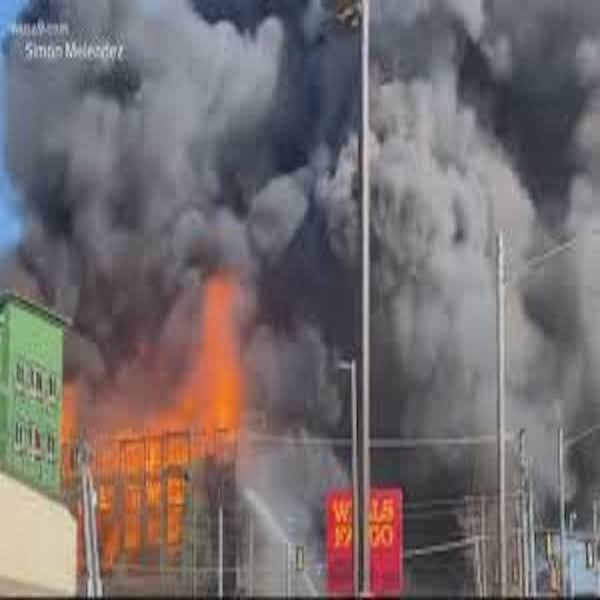fire: (175, 268, 282, 421), (97, 433, 190, 554), (61, 382, 158, 431)
